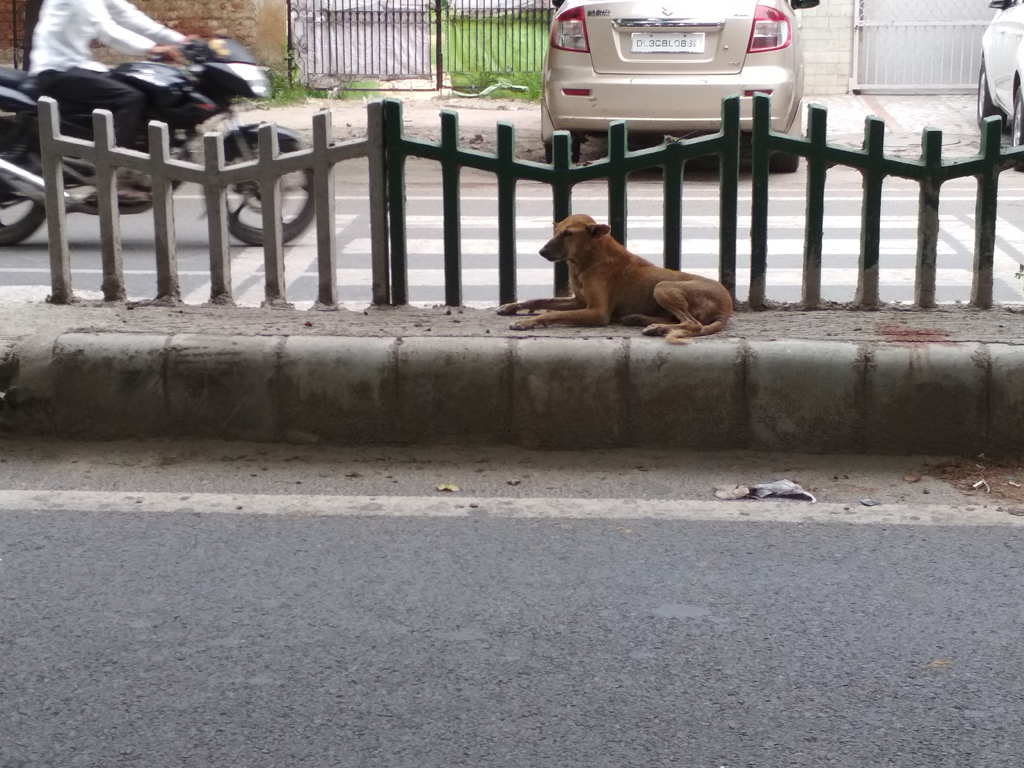dog: (497, 214, 733, 346)
